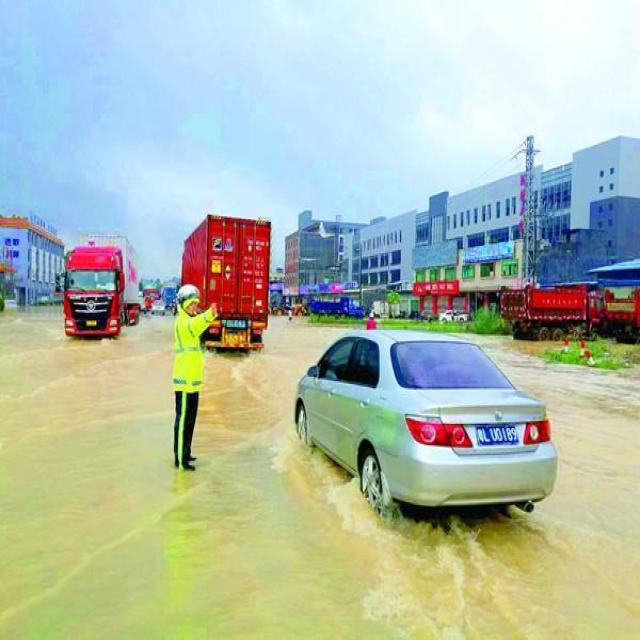rescuer: (166, 278, 218, 476)
